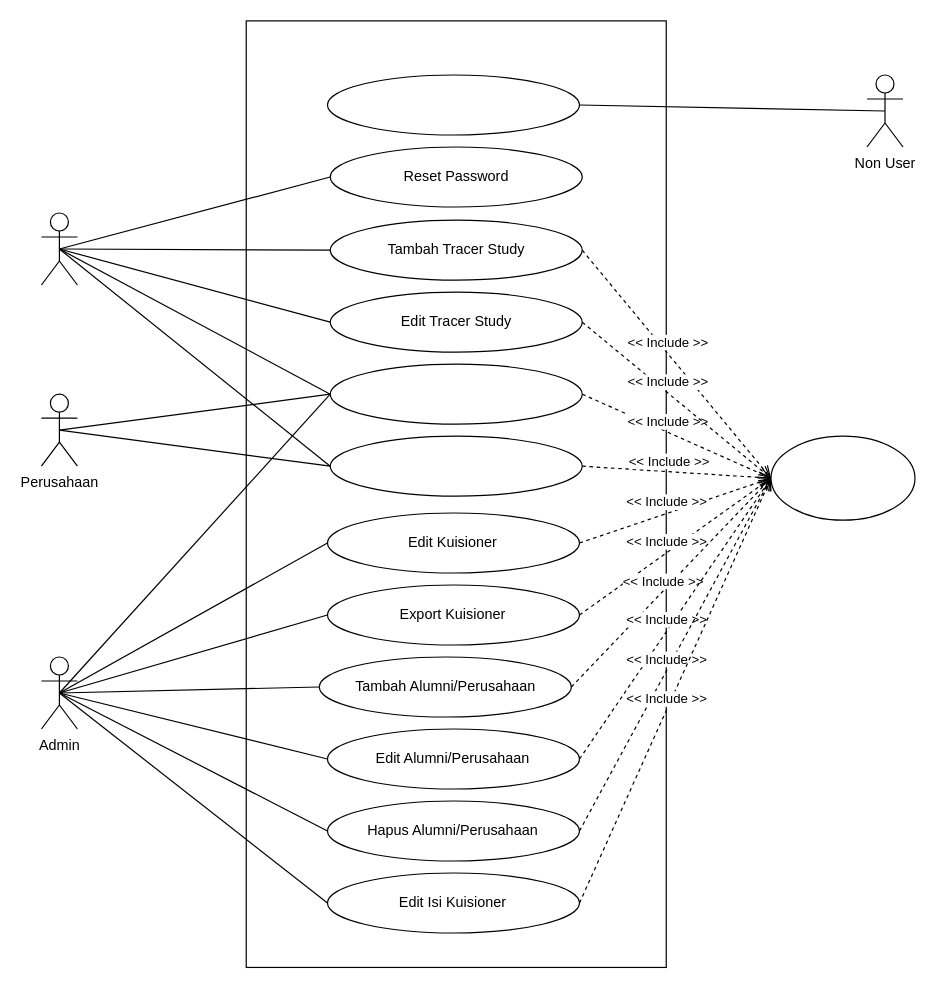
Some shapes in this 936 by 989 pixel diagram are drawn without their labels. Each missing label, with the box of its shape:
Alumni: (40, 212, 77, 285)
Edit Profil: (329, 363, 582, 424)
Isi Kuisioner: (329, 435, 582, 496)
Kuisioner Awal Kelulusan: (326, 74, 579, 135)
Login: (770, 435, 915, 520)
